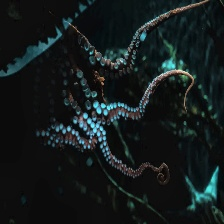octopus: (1, 5, 219, 222)
